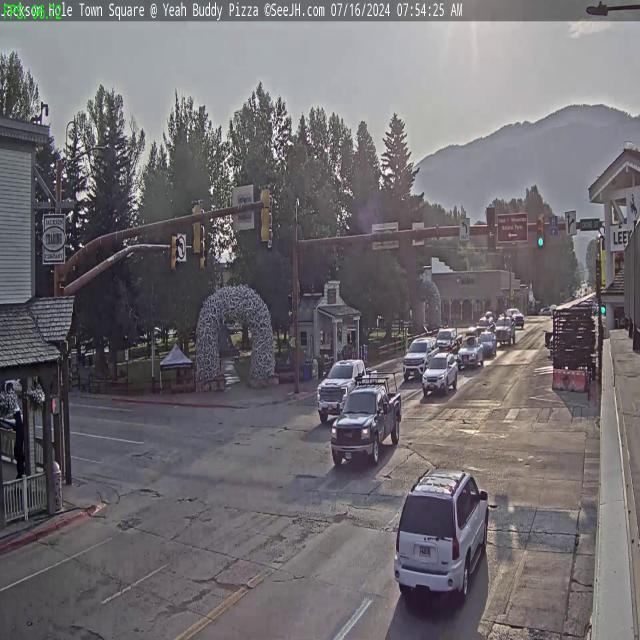person: (331, 389, 404, 460), (318, 354, 374, 420), (436, 327, 464, 354), (495, 316, 517, 346), (504, 307, 524, 329)
pickup: (480, 332, 498, 354)
sedan: (394, 462, 492, 604), (421, 356, 460, 396), (402, 338, 438, 378), (458, 338, 486, 368), (476, 316, 494, 336)
suv: (260, 186, 274, 244), (191, 200, 203, 255), (486, 207, 496, 248), (171, 233, 178, 273), (537, 214, 544, 249), (201, 241, 207, 271)
